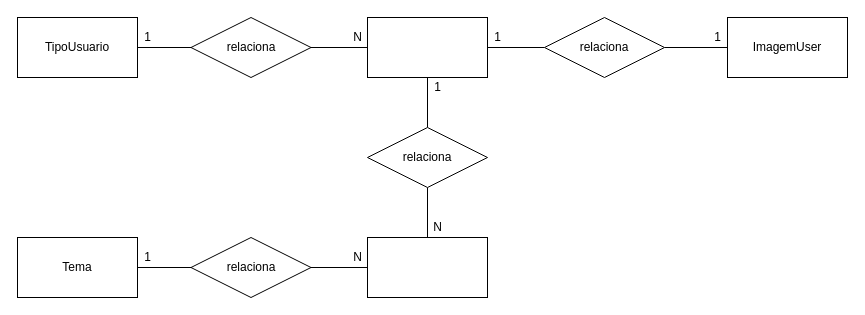
This 865x315 diagram has some shape labels left out. The shapes that lost their labels are listed below. From the top down, each one's centre as x and y in pixels, then its label:
the point at 427,47: Usuario
the point at 427,267: Projeto
